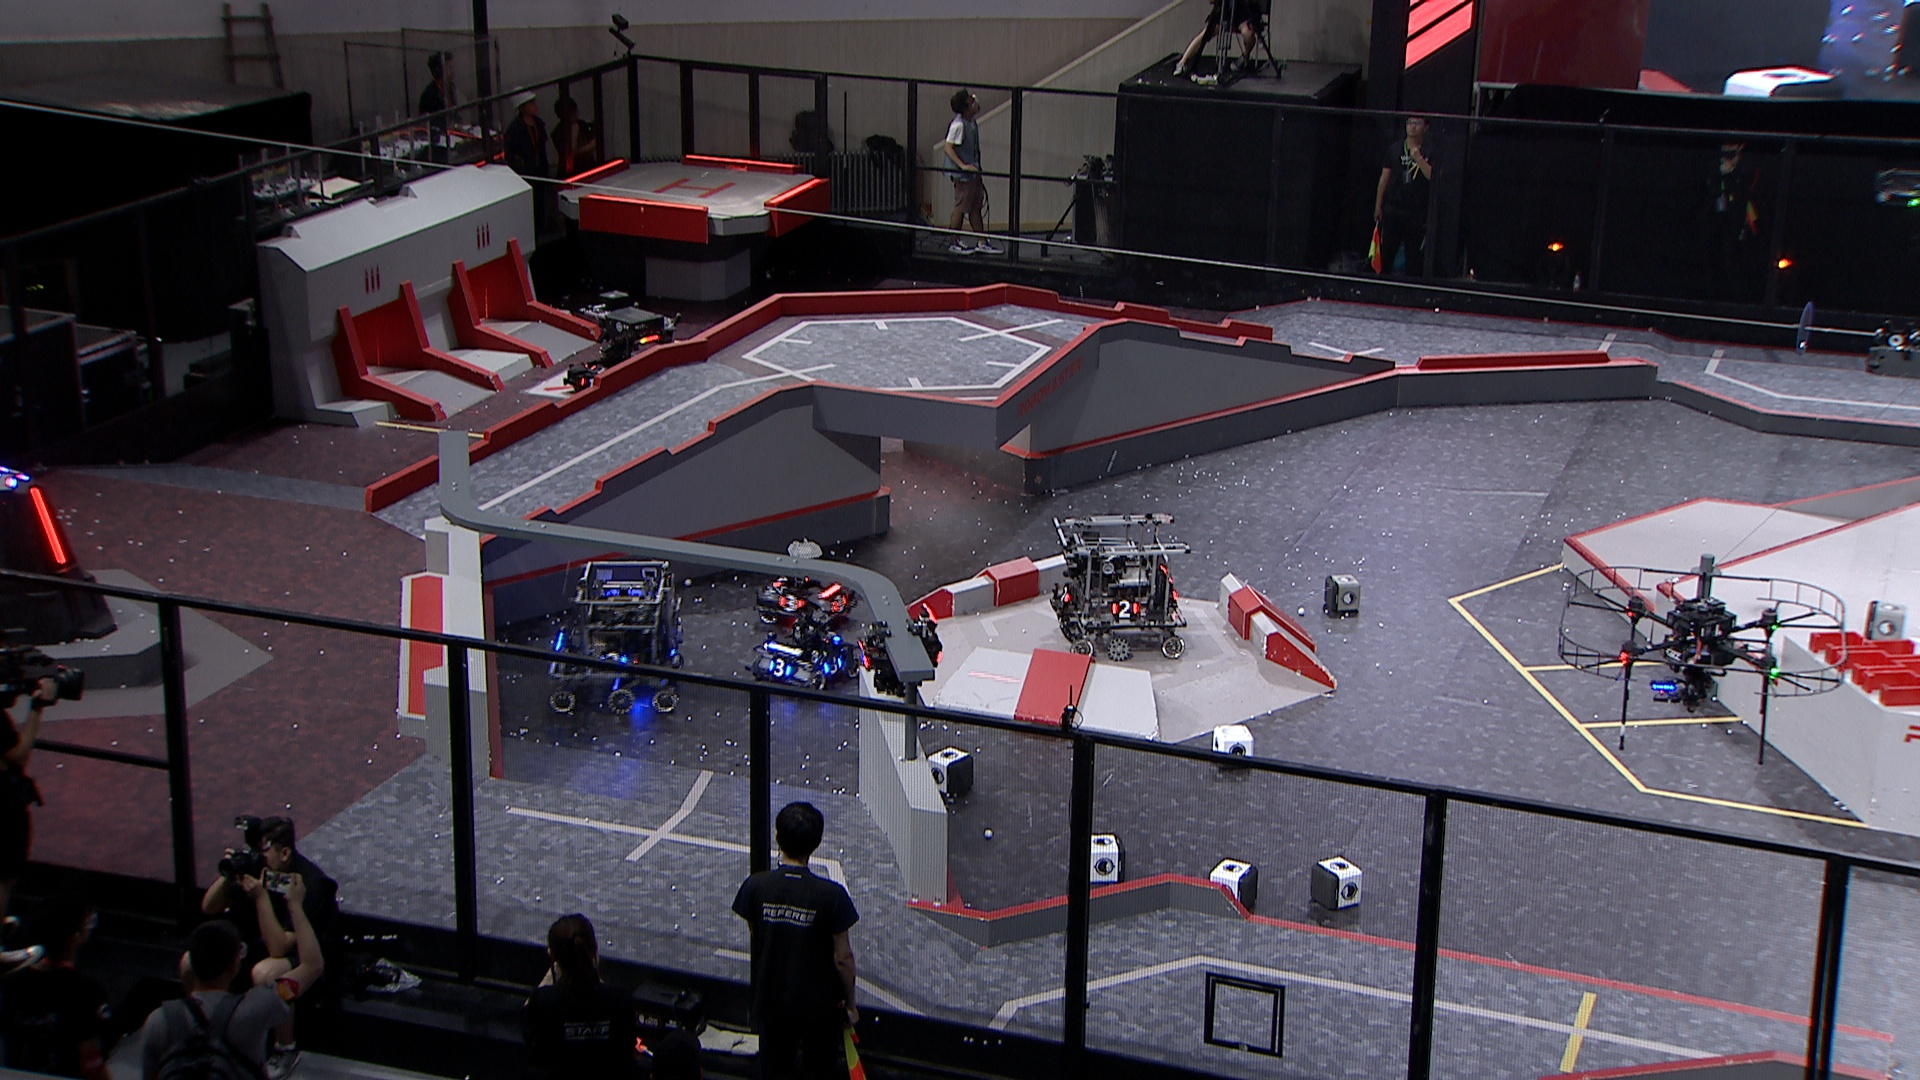armor: (29, 484, 69, 566), (767, 657, 793, 678), (1112, 600, 1139, 618), (775, 593, 800, 613), (822, 655, 847, 675), (597, 651, 622, 670), (831, 591, 847, 612), (1058, 584, 1072, 605), (576, 373, 595, 389), (585, 363, 605, 375), (773, 572, 789, 585), (822, 632, 840, 642)
car: (546, 553, 688, 713), (1044, 506, 1187, 666), (564, 305, 692, 409), (752, 604, 868, 692), (752, 538, 862, 626)
watcher: (855, 603, 944, 704)
